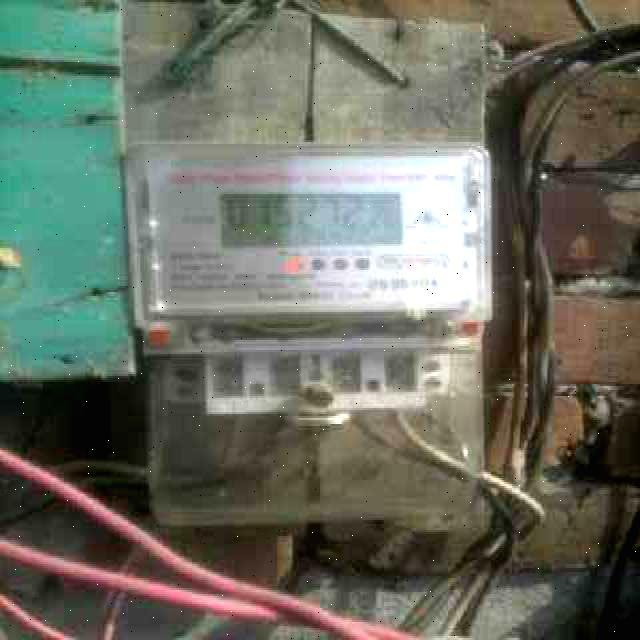LCD: (206, 185, 421, 247)
